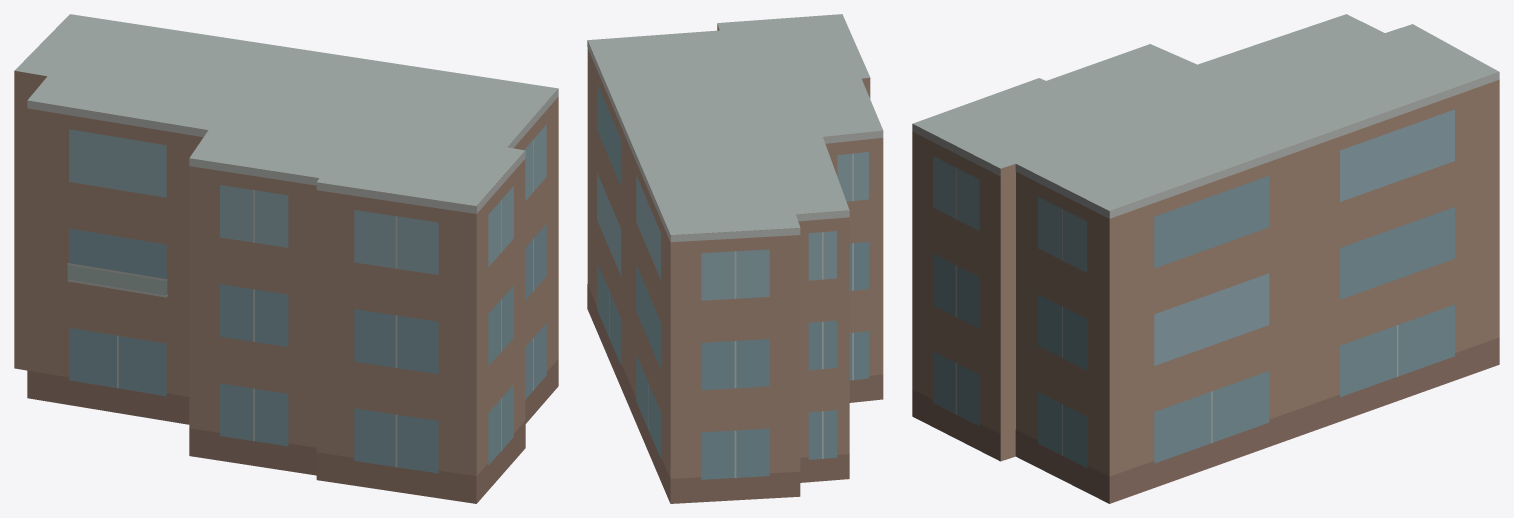
File: survey-upis-32656298.glb
The picture shows the model from 3 angles, left to right: view 1: azimuth 30°, elevation 25°; view 2: azimuth 150°, elevation 25°; view 3: azimuth 270°, elevation 25°; orthographic projection. The views are drawn at different scales.
Visible parts, largest first — view 1: survey-upis-32656298.tmp; view 2: survey-upis-32656298.tmp; view 3: survey-upis-32656298.tmp.
Boxes of the visible parts, x1,y1,x2,y2 form: survey-upis-32656298.tmp: (14,14,558,503); survey-upis-32656298.tmp: (587,14,883,503); survey-upis-32656298.tmp: (912,14,1499,503).
Bounding box in the file's own units: 13.22 × 9.15 × 16.64.
